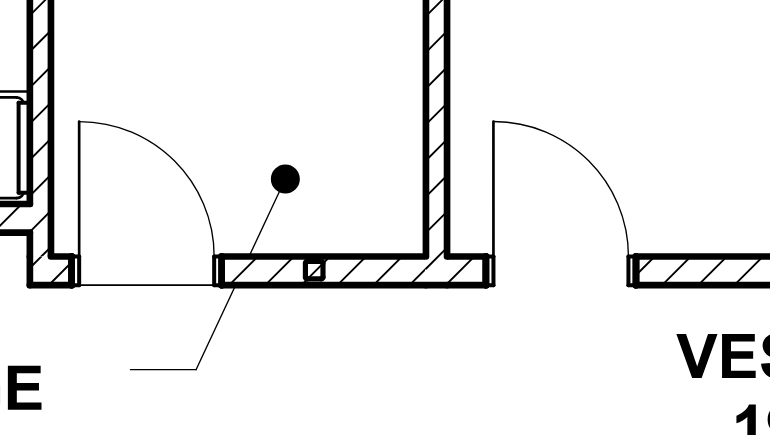door: (70, 104, 224, 318), (485, 116, 634, 317)
